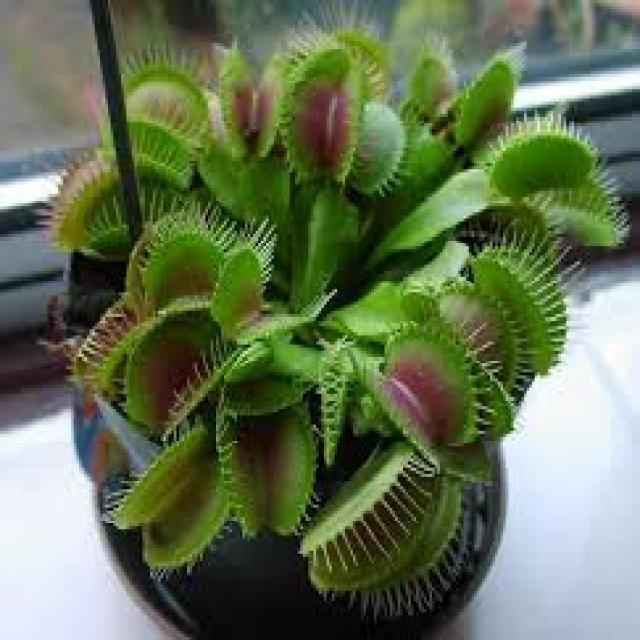Organik: (47, 15, 620, 598)
